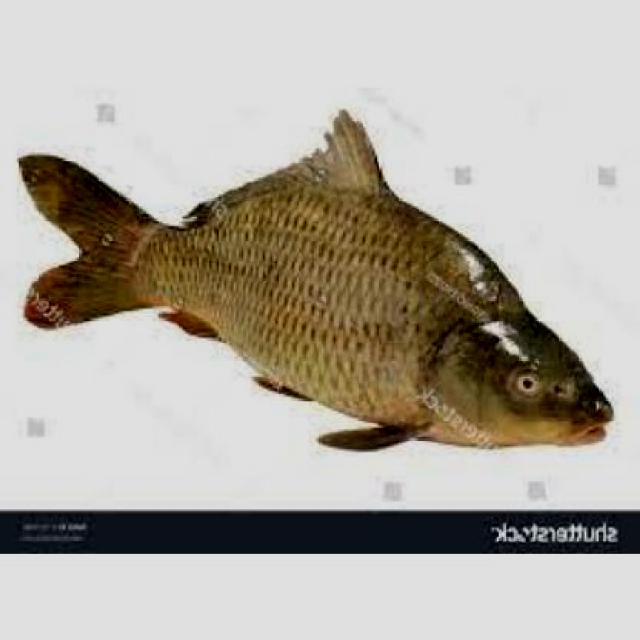ikan-mas: (24, 130, 618, 456)
